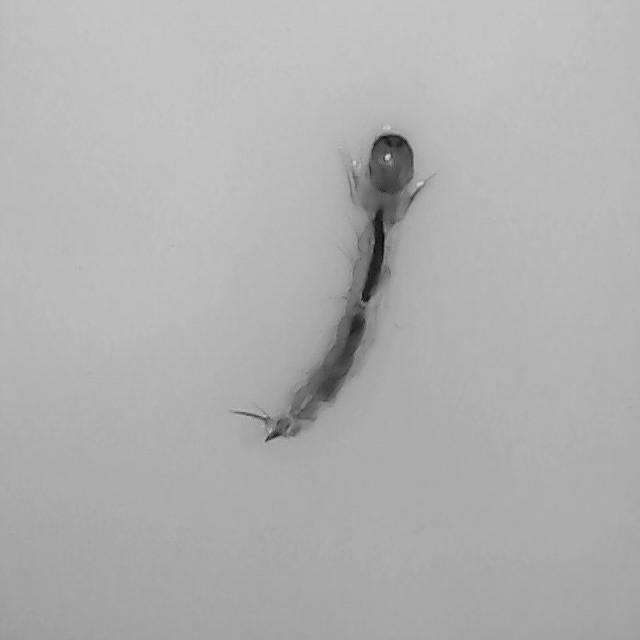larvas: (235, 134, 415, 444)
